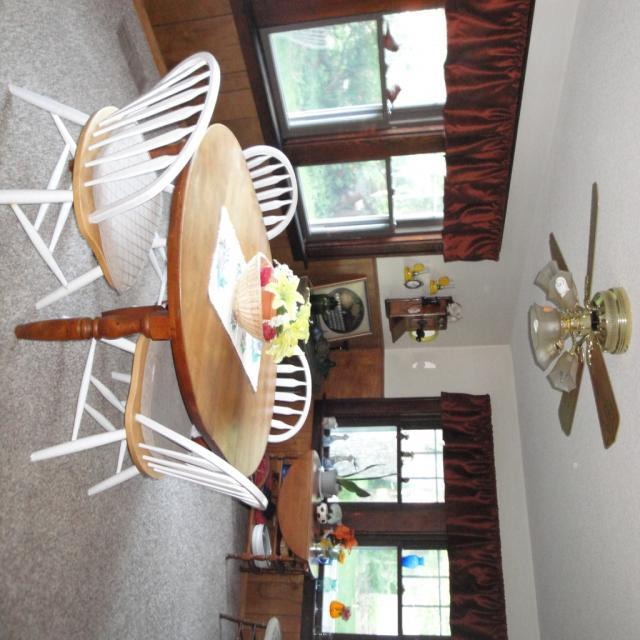fan_off: (547, 184, 628, 452)
